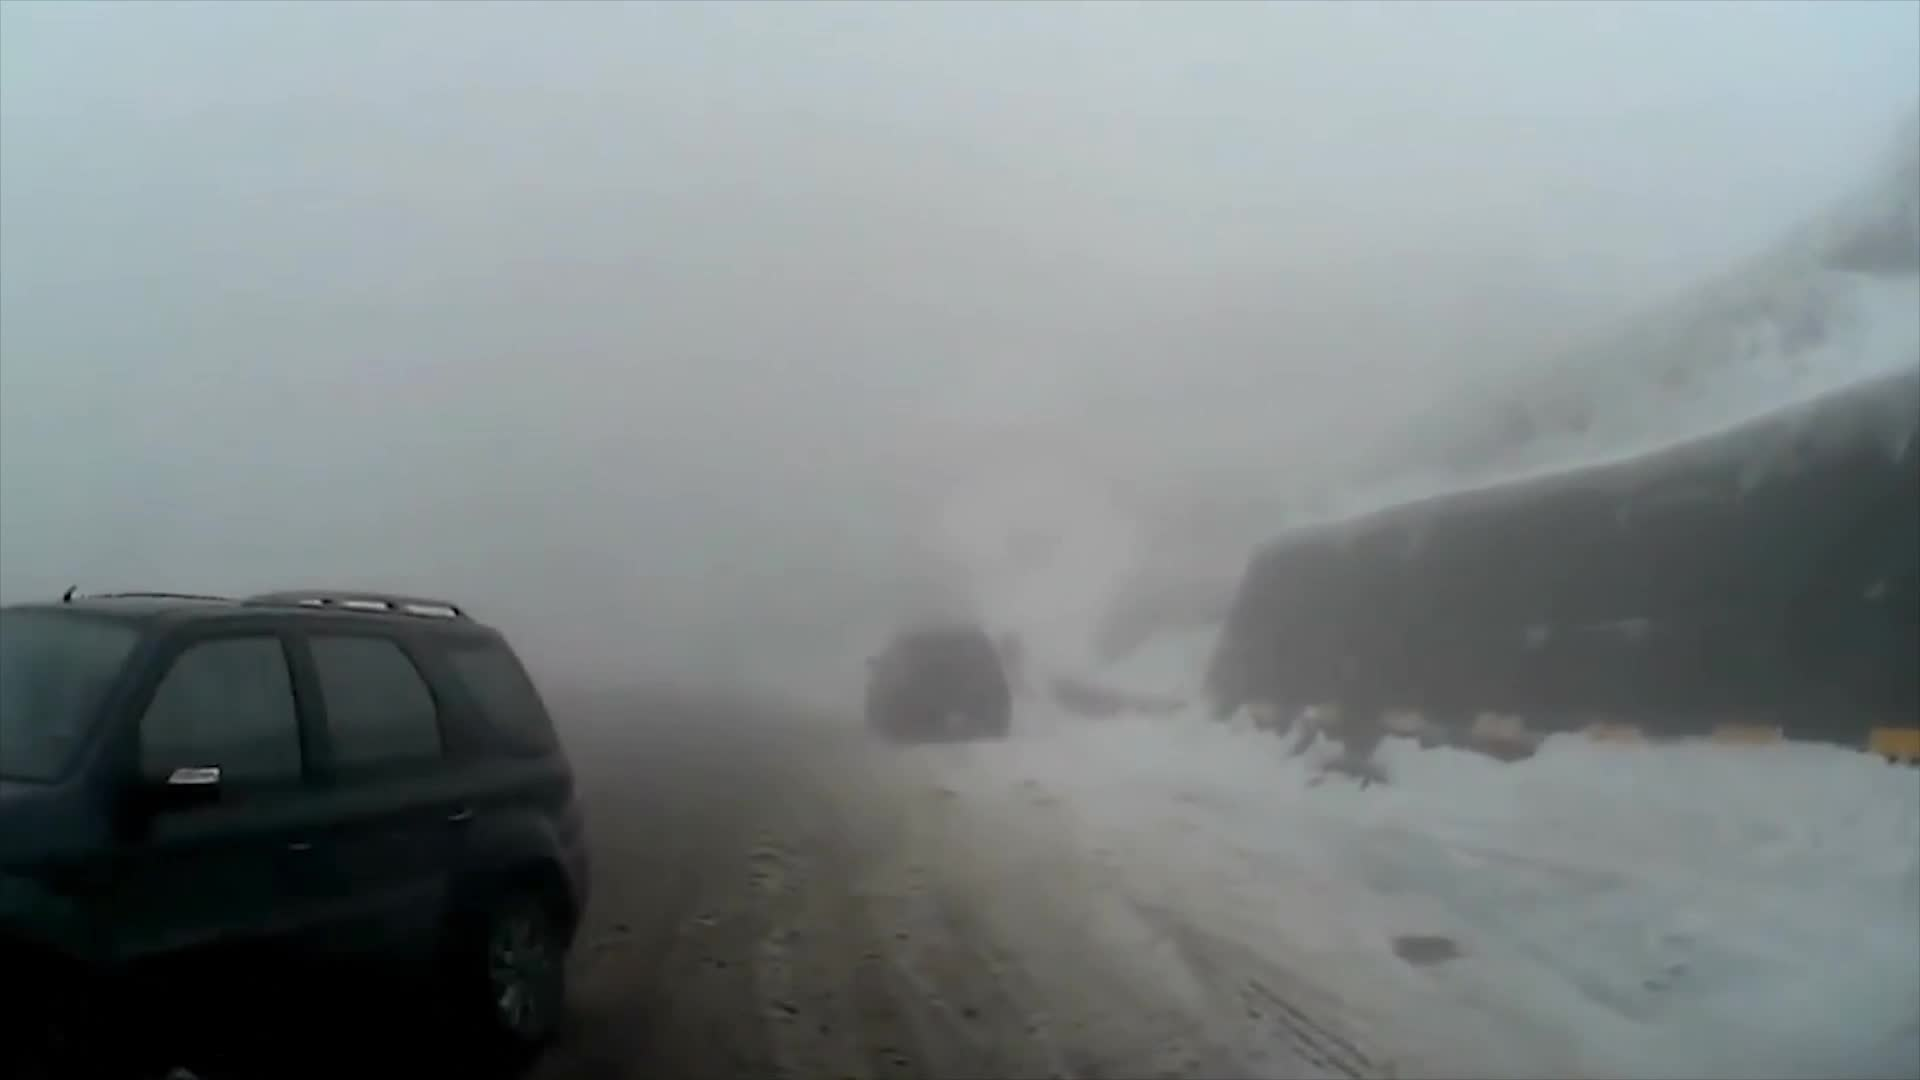vehicle: (0, 585, 591, 1079), (860, 621, 1009, 748)
